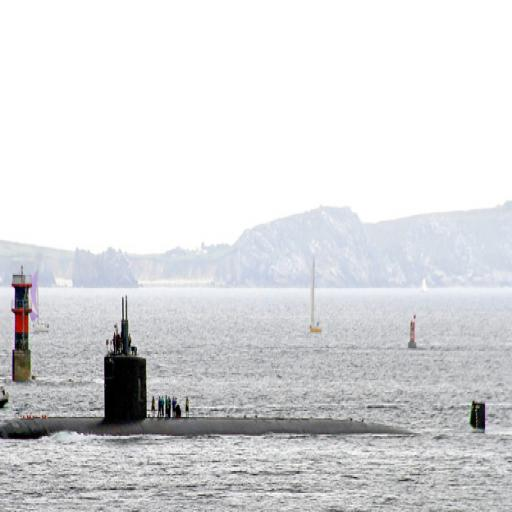submarine: (1, 297, 488, 439)
